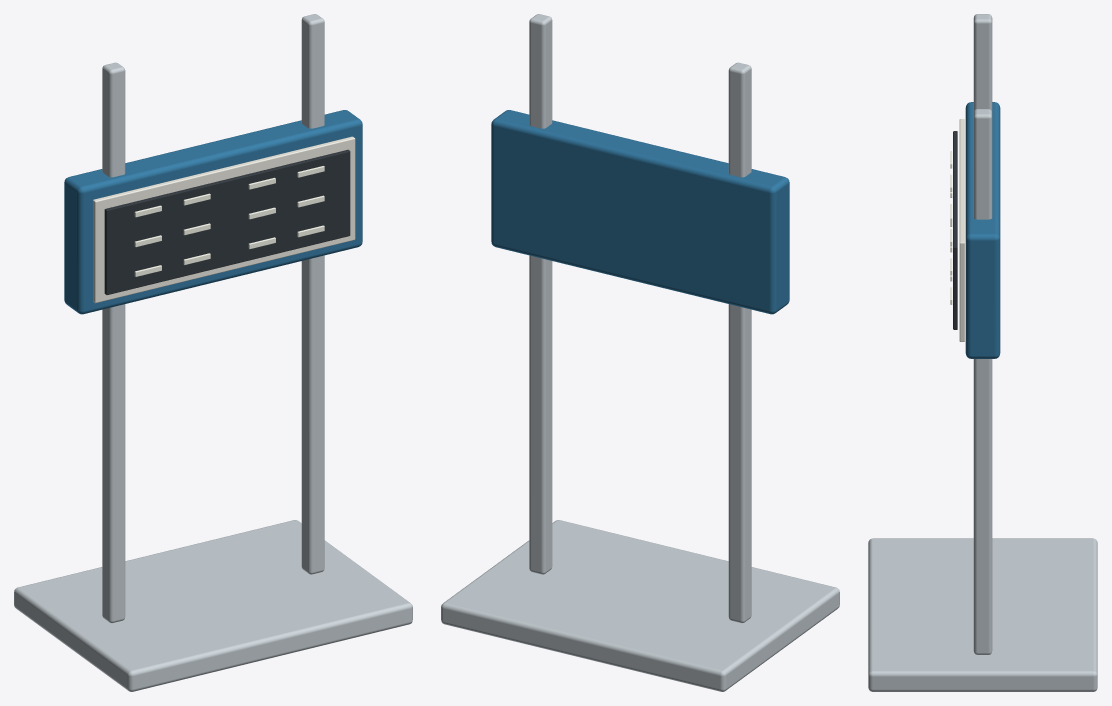
File: curling-club-and-ice-maintenance-game-clock-8ef6be40__31280.glb
The picture shows the model from 3 angles, left to right: view 1: azimuth 30°, elevation 25°; view 2: azimuth 150°, elevation 25°; view 3: azimuth 270°, elevation 25°; orthographic projection. The views are drawn at different scales.
Parts seen in each view (by area): view 1: game-clock; view 2: game-clock; view 3: game-clock.
Boxes of the visible parts, x1,y1,x2,y2 form: game-clock: (14,14,412,691); game-clock: (441,14,839,691); game-clock: (868,14,1097,691).
Bounding box in the file's own units: 0.7 × 1.35 × 0.5.
